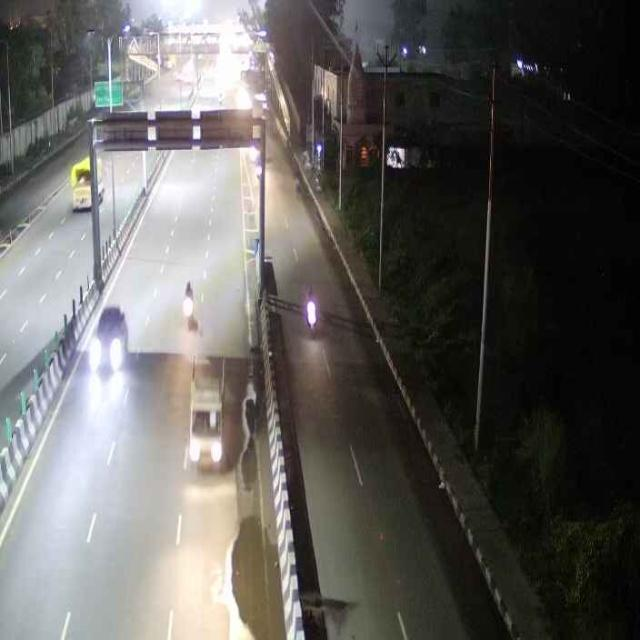car: (178, 350, 233, 476), (87, 298, 133, 373)
